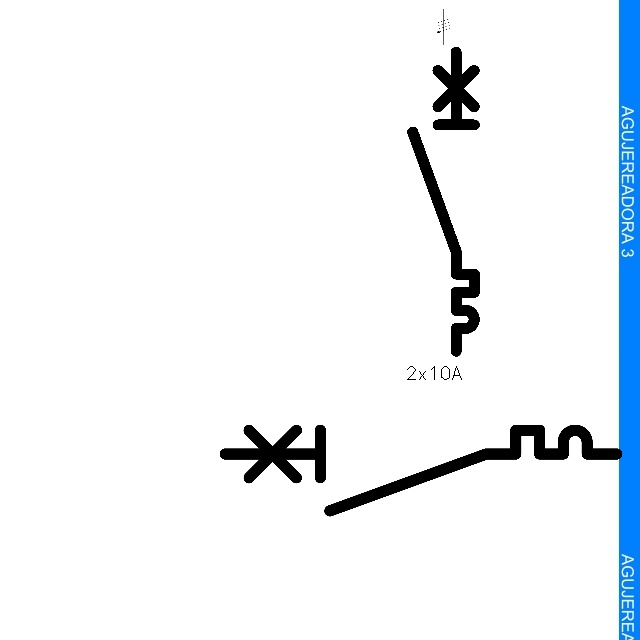interruptor_termomagnetico: (215, 420, 627, 521), (405, 44, 482, 358)
